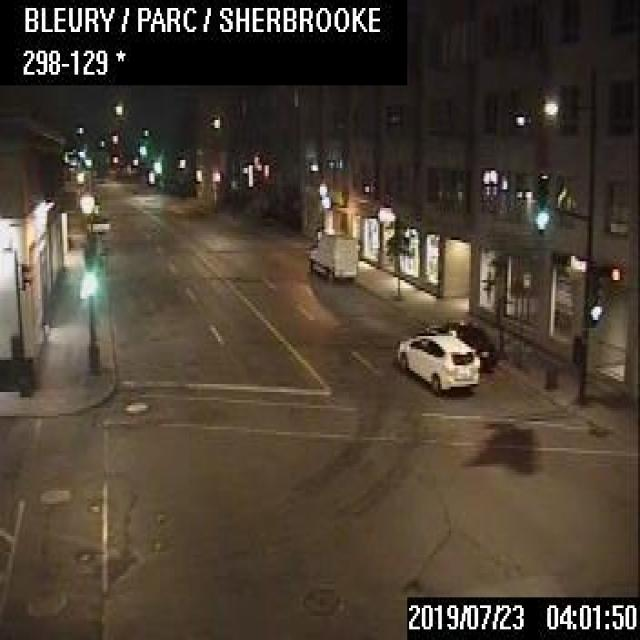vehicle: (392, 331, 478, 392), (421, 316, 495, 370), (306, 232, 356, 278)
